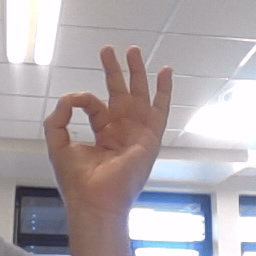O: (42, 43, 175, 198)
